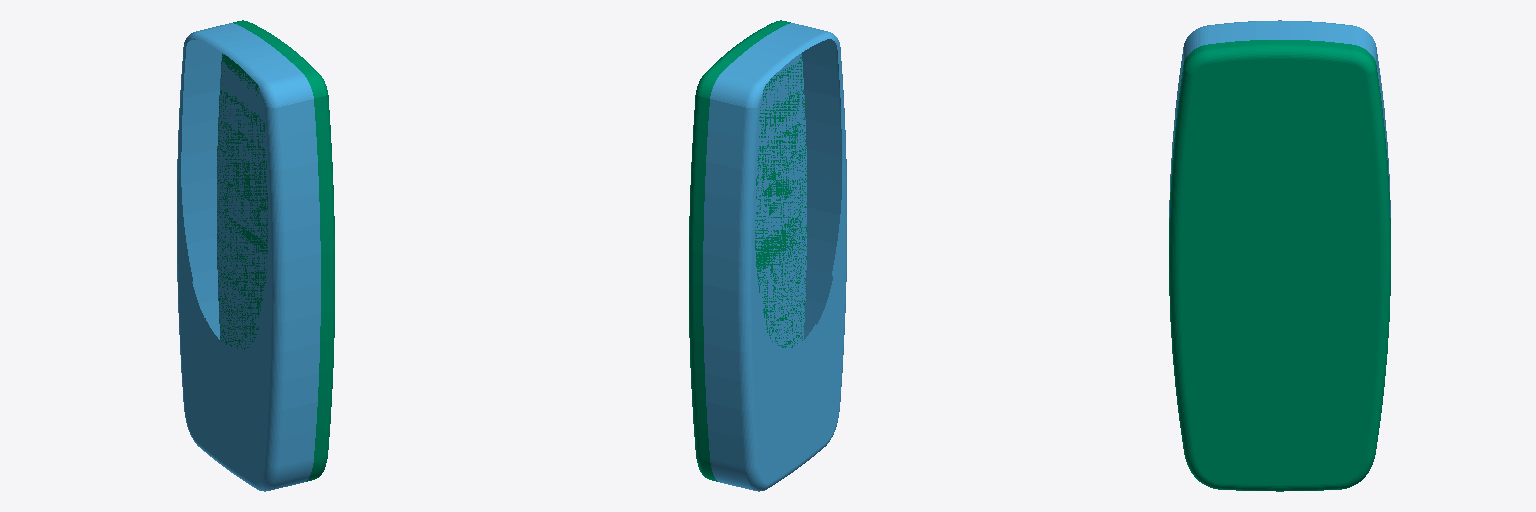
The robot description file, URDF, robot "partnet_fd1f9e8add1fcbd123c841f9d5051936":
<?xml version="1.0" ?>
<robot name="partnet_fd1f9e8add1fcbd123c841f9d5051936">
	<link name="base"/>
	<link name="link_0">
		<visual name="lid-3">
			<origin xyz="0.0013007224518146773 0 0.006225716369432219"/>
			<geometry>
				<mesh filename="textured_objs/original-1.obj" scale="0.1 0.1 0.1"/>
			</geometry>
		</visual>
		<visual name="lid-3">
			<origin xyz="0.0013007224518146773 0 0.006225716369432219"/>
			<geometry>
				<mesh filename="textured_objs/original-6.obj" scale="0.1 0.1 0.1"/>
			</geometry>
		</visual>
		<visual name="lid-3">
			<origin xyz="0.0013007224518146773 0 0.006225716369432219"/>
			<geometry>
				<mesh filename="textured_objs/original-4.obj" scale="0.1 0.1 0.1"/>
			</geometry>
		</visual>
		<collision>
			<origin xyz="0.0013007224518146773 0 0.006225716369432219"/>
			<geometry>
				<mesh filename="textured_objs/original-1.obj" scale="0.1 0.1 0.1"/>
			</geometry>
		</collision>
		<collision>
			<origin xyz="0.0013007224518146773 0 0.006225716369432219"/>
			<geometry>
				<mesh filename="textured_objs/original-6.obj" scale="0.1 0.1 0.1"/>
			</geometry>
		</collision>
		<collision>
			<origin xyz="0.0013007224518146773 0 0.006225716369432219"/>
			<geometry>
				<mesh filename="textured_objs/original-4.obj" scale="0.1 0.1 0.1"/>
			</geometry>
		</collision>
	</link>
	<!--<joint name="joint_0" type="prismatic"> -->
	<joint name="joint_0" type="fixed">
		<origin xyz="-0.0013007224518146773 0 -0.006225716369432219"/>
		<axis xyz="0 1 0"/>
		<child link="link_0"/>
		<parent link="link_1"/>
		<limit lower="0" upper="0.1080000000000001"/>
	</joint>
	<link name="link_1">
		<visual name="body-1">
			<origin xyz="0 0 0"/>
			<geometry>
				<mesh filename="textured_objs/original-2.obj" scale="0.1 0.1 0.1"/>
			</geometry>
		</visual>
		<visual name="body-1">
			<origin xyz="0 0 0"/>
			<geometry>
				<mesh filename="textured_objs/new-0.obj" scale="0.1 0.1 0.1"/>
			</geometry>
		</visual>
		<visual name="body-1">
			<origin xyz="0 0 0"/>
			<geometry>
				<mesh filename="textured_objs/new-1.obj" scale="0.1 0.1 0.1"/>
			</geometry>
		</visual>
		<visual name="handle-2">
			<origin xyz="0 0 0"/>
			<geometry>
				<mesh filename="textured_objs/original-5.obj" scale="0.1 0.1 0.1"/>
			</geometry>
		</visual>
		<collision>
			<origin xyz="0 0 0"/>
			<geometry>
				<mesh filename="textured_objs/original-2.obj" scale="0.1 0.1 0.1"/>
			</geometry>
		</collision>
		<collision>
			<origin xyz="0 0 0"/>
			<geometry>
				<mesh filename="textured_objs/new-0.obj" scale="0.1 0.1 0.1"/>
			</geometry>
		</collision>
		<collision>
			<origin xyz="0 0 0"/>
			<geometry>
				<mesh filename="textured_objs/new-1.obj" scale="0.1 0.1 0.1"/>
			</geometry>
		</collision>
		<collision>
			<origin xyz="0 0 0"/>
			<geometry>
				<mesh filename="textured_objs/original-5.obj" scale="0.1 0.1 0.1"/>
			</geometry>
		</collision>
	</link>
	<joint name="joint_1" type="fixed">
		<origin rpy="1.570796326794897 0 -1.570796326794897" xyz="0 0 0"/>
		<child link="link_1"/>
		<parent link="base"/>
	</joint>

	<link name="link_2">
		<visual name="handle-3">
			<origin xyz="0 0 0"/>
			<geometry>
				<mesh filename="textured_objs/original-5.obj" scale="0.1 0.1 0.1"/>
			</geometry>
		</visual>
		<collision>
			<origin xyz="0 0 0"/>
			<geometry>
				<mesh filename="textured_objs/original-5.obj" scale="0.1 0.1 0.1"/>
			</geometry>
		</collision>
	</link>
	<joint name="joint_2" type="fixed">
		<origin rpy="1.570796326794897 0 1.570796326794897" xyz="0 0 0"/>
		<child link="link_2"/>
		<parent link="base"/>
	</joint>
</robot>

--- Facts derived from the render (not from the file) ---
3 views of the same robot in one strip: view 1: azimuth 30°, elevation 25°; view 2: azimuth 150°, elevation 25°; view 3: azimuth 270°, elevation 25° (orthographic).
Robot: partnet_fd1f9e8add1fcbd123c841f9d5051936 — 4 links, 3 joints (3 fixed); root link base; default pose: every joint at zero.
Visible links, largest first — view 1: link_0, link_1; view 2: link_0, link_1; view 3: link_1, link_0.
Link boxes in pixels (x1,y1,x2,y2): link_0: [177, 23, 320, 491]; link_1: [217, 20, 334, 481]; link_0: [703, 23, 846, 491]; link_1: [689, 20, 806, 481]; link_1: [1169, 40, 1390, 491]; link_0: [1169, 20, 1390, 217].
Size in the robot's own frame: 0.0302 by 0.088 by 0.1949 metres.
Meshes: 7 distinct files referenced, 2 mesh visuals loaded (2 OBJ); not drawn: 6 (reference not matched to a file when rendering).